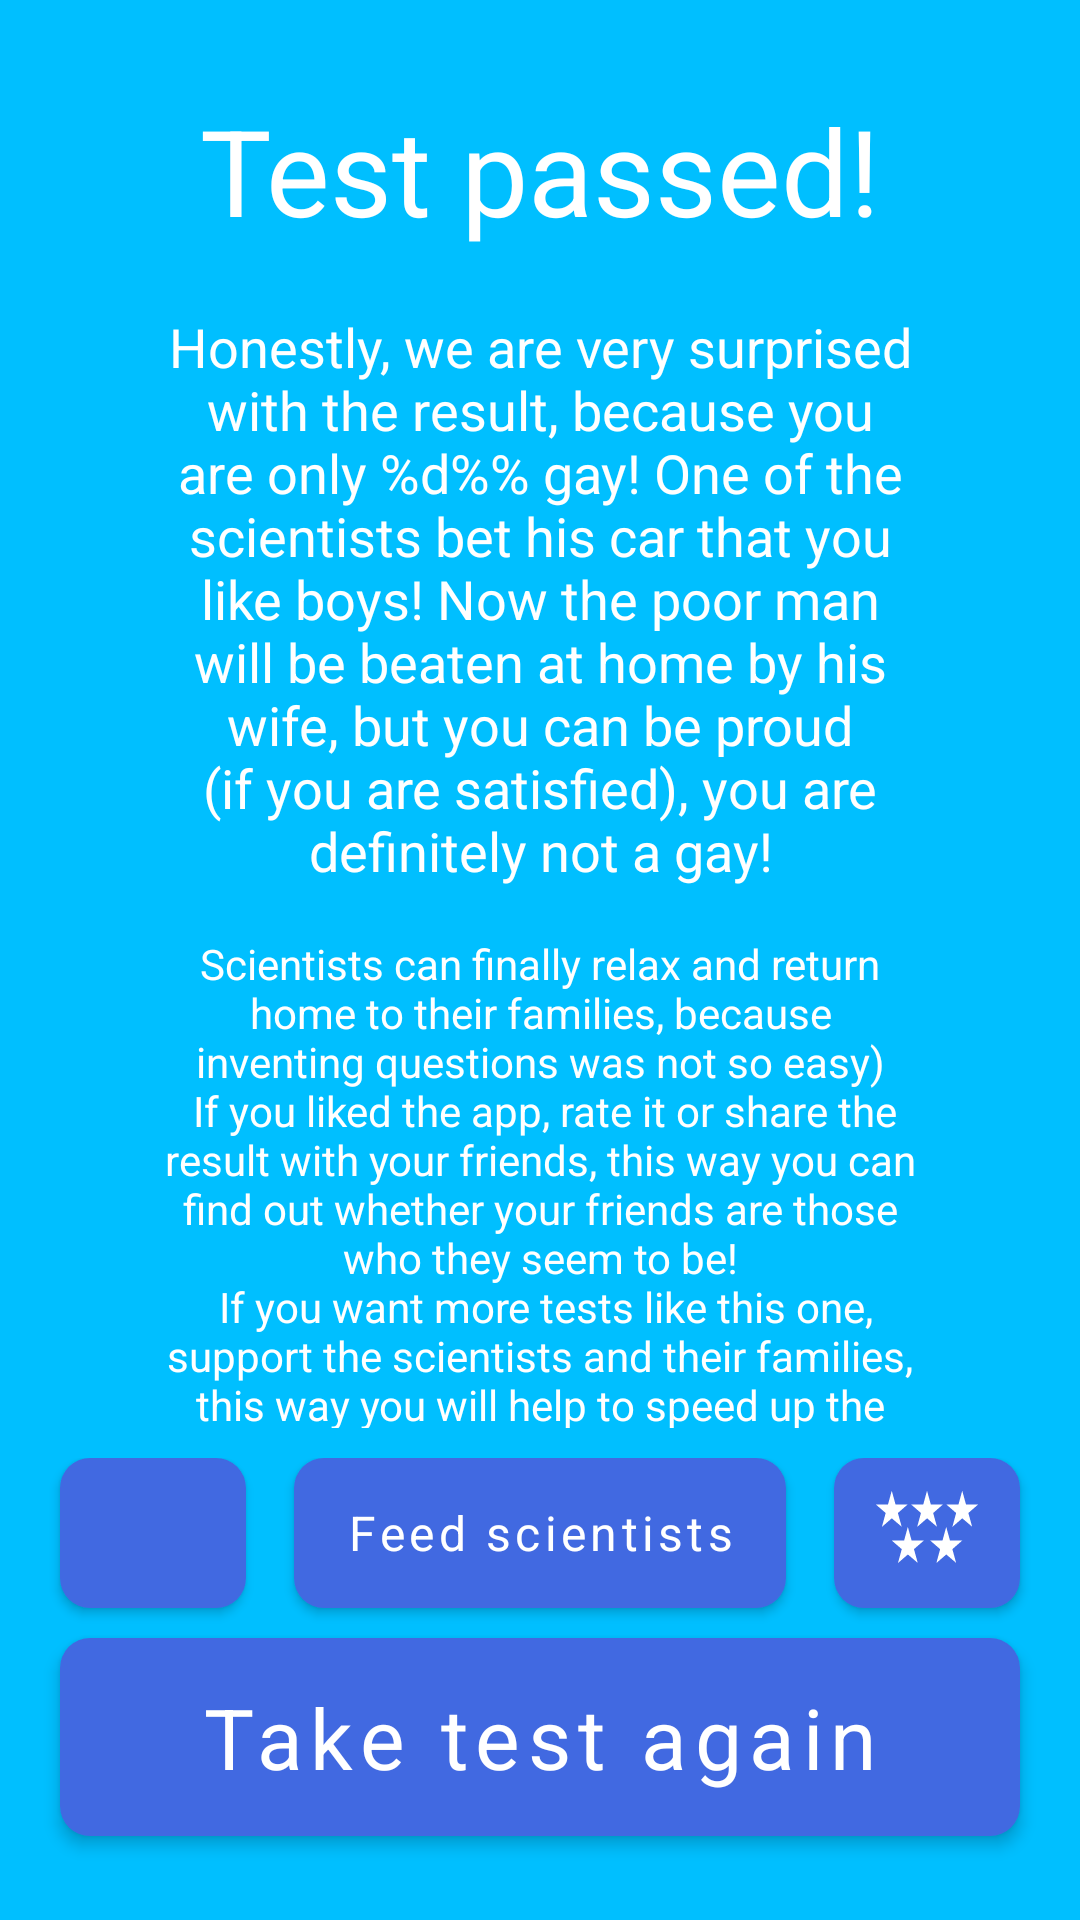

Icons on this 1080px×1920px Android screen, each with its box as {"x1": x1, "y1": y1, "x2": x2, "y2": y2}:
rate us: {"x1": 834, "y1": 1458, "x2": 1020, "y2": 1608}
